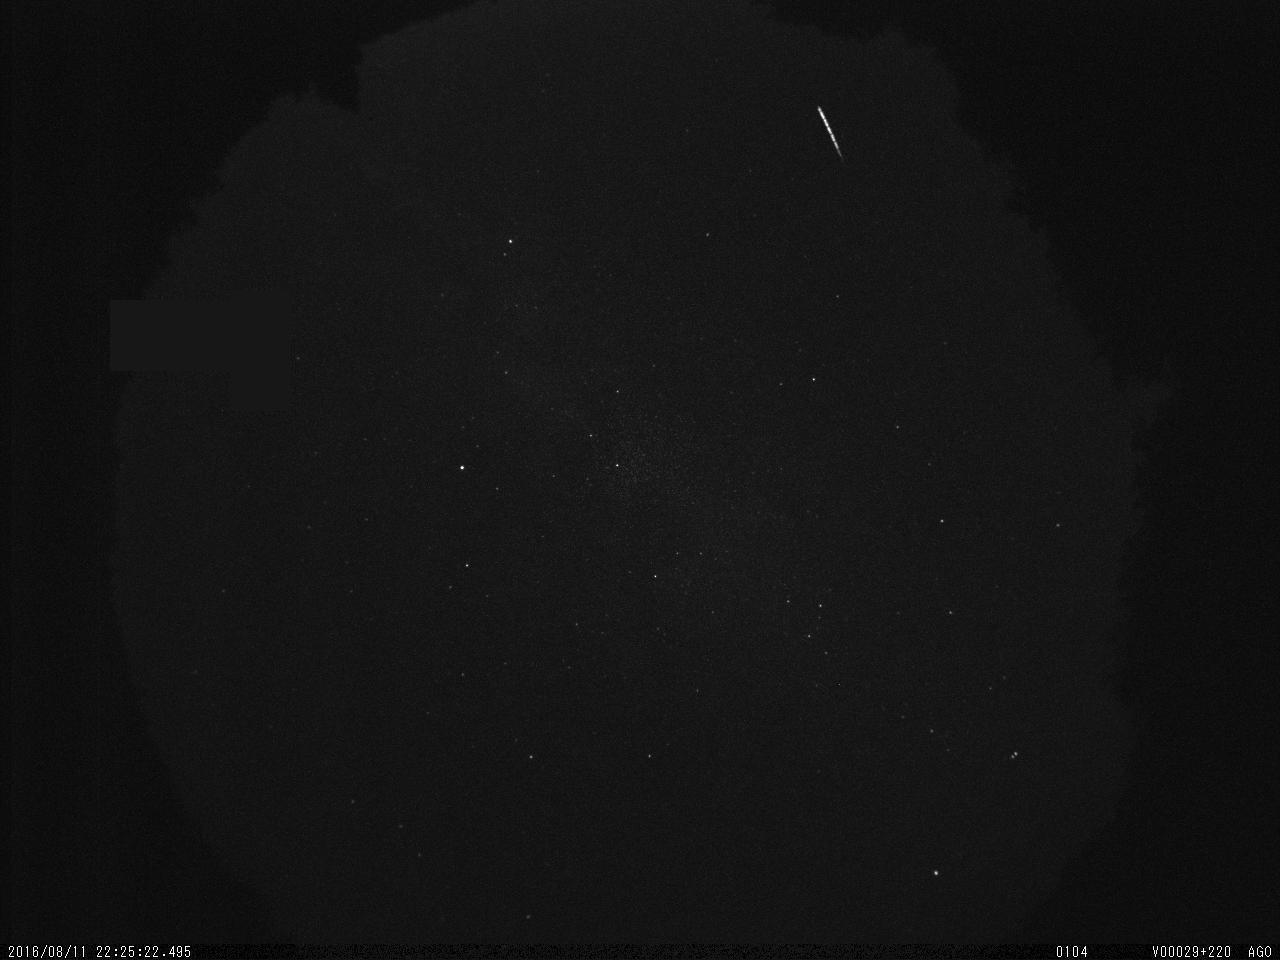meteor: (797, 94, 859, 167)
